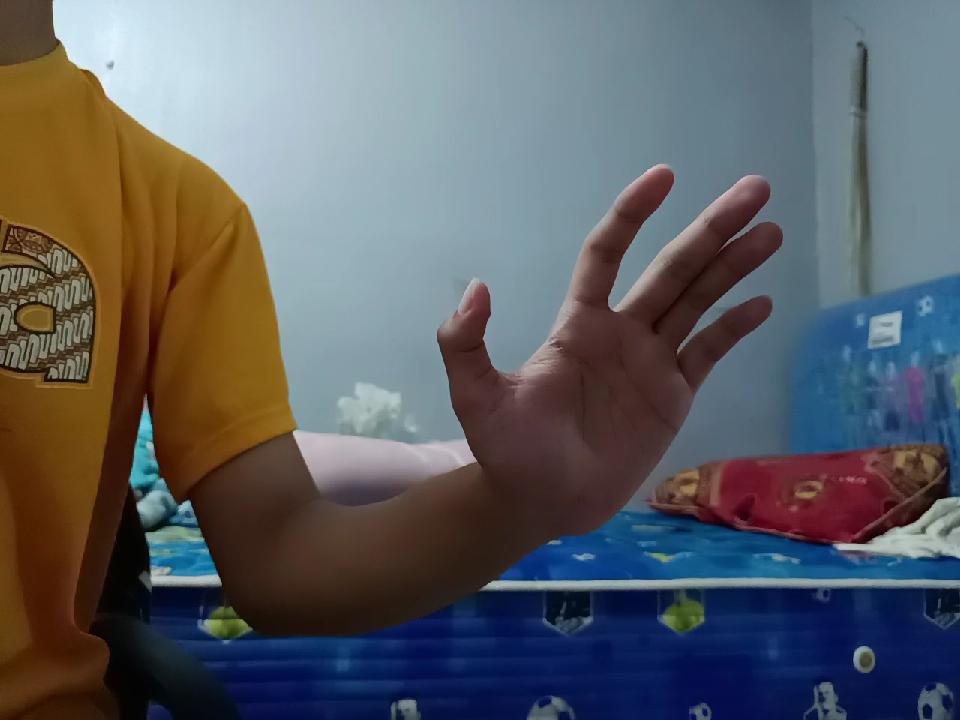paper: (427, 142, 774, 532)
